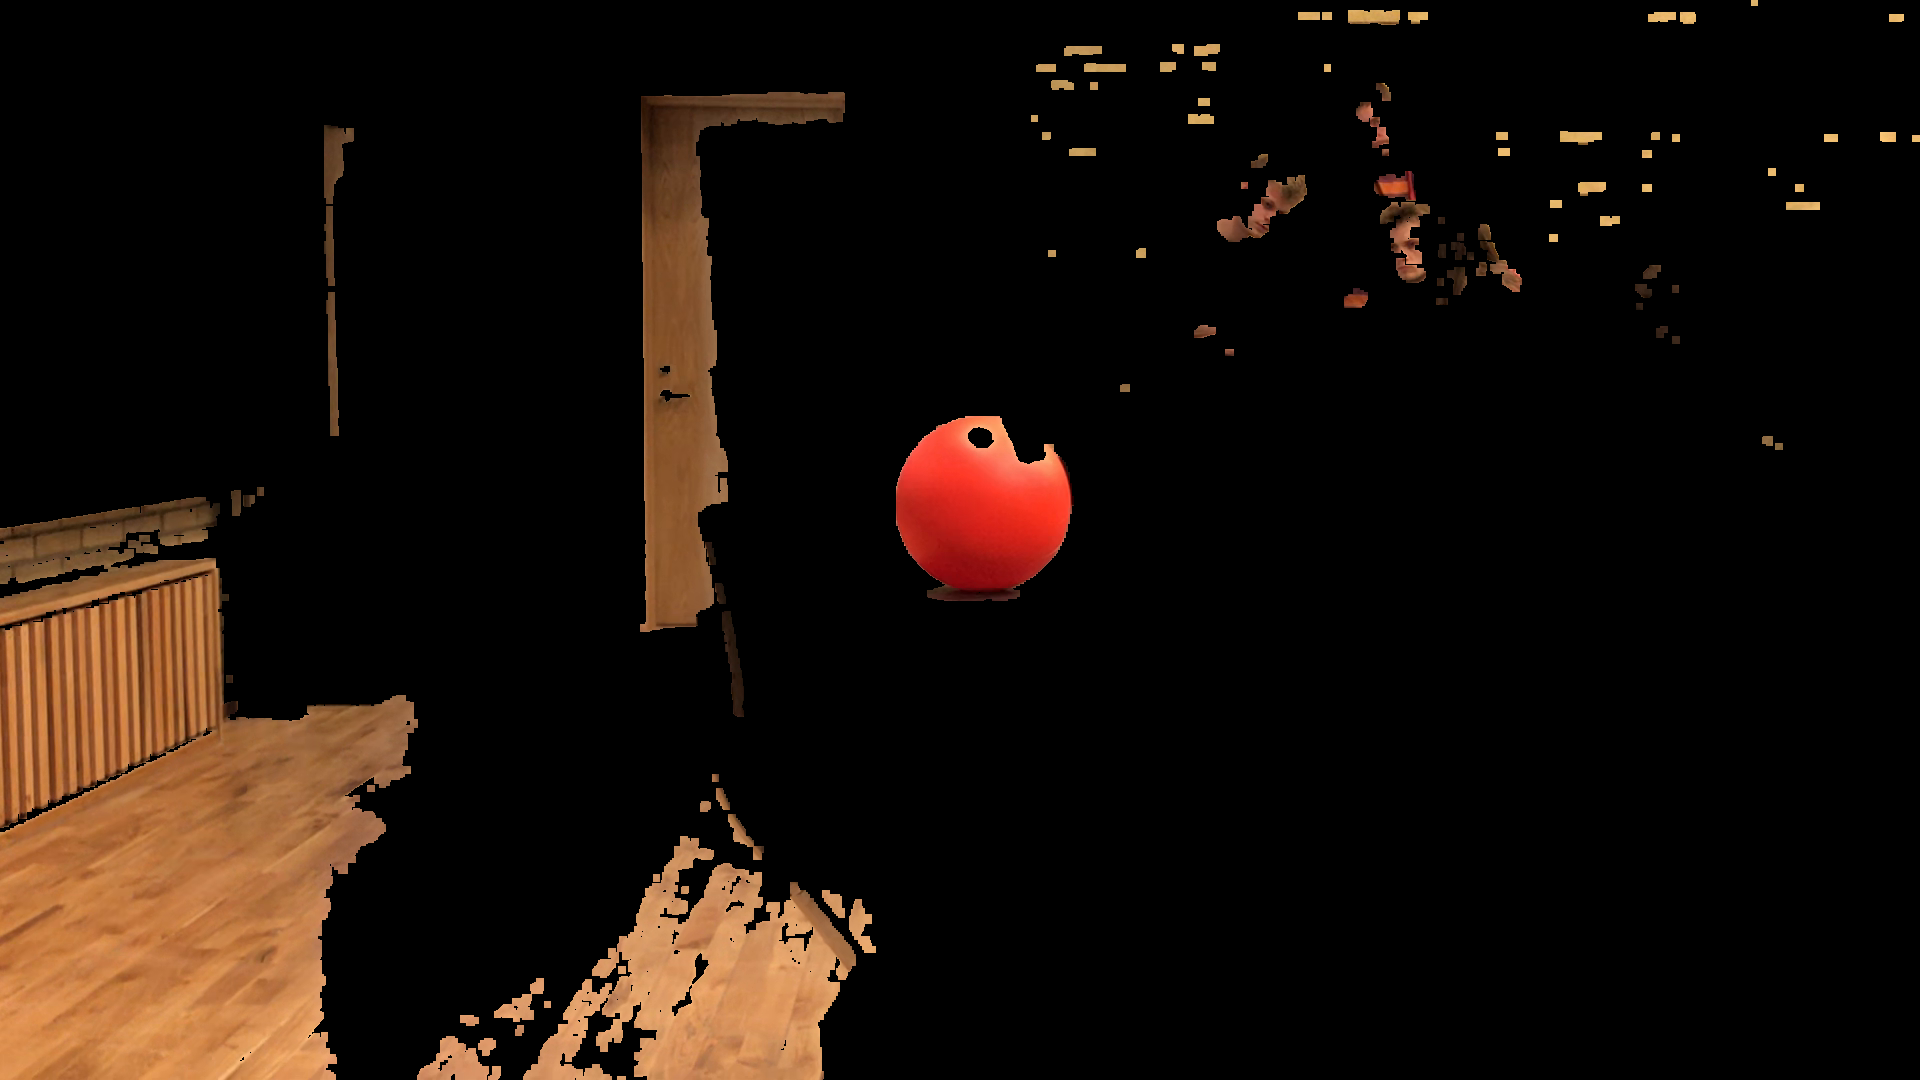Ball: (895, 411, 1077, 592)
